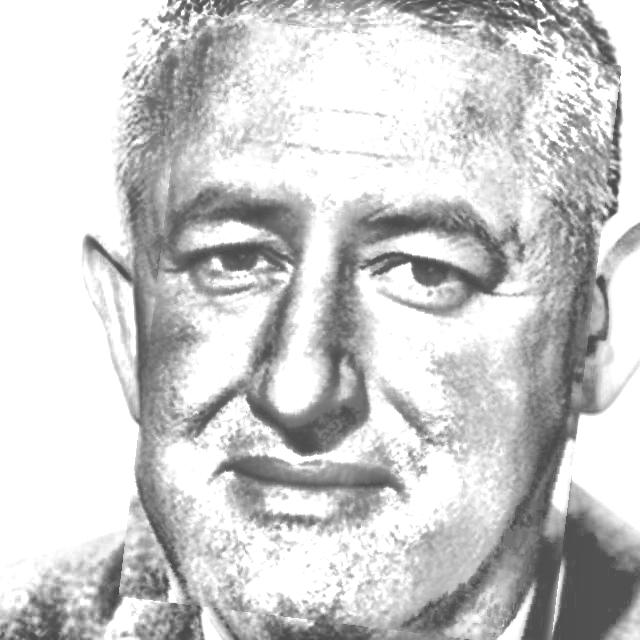sad: (135, 25, 604, 637)
